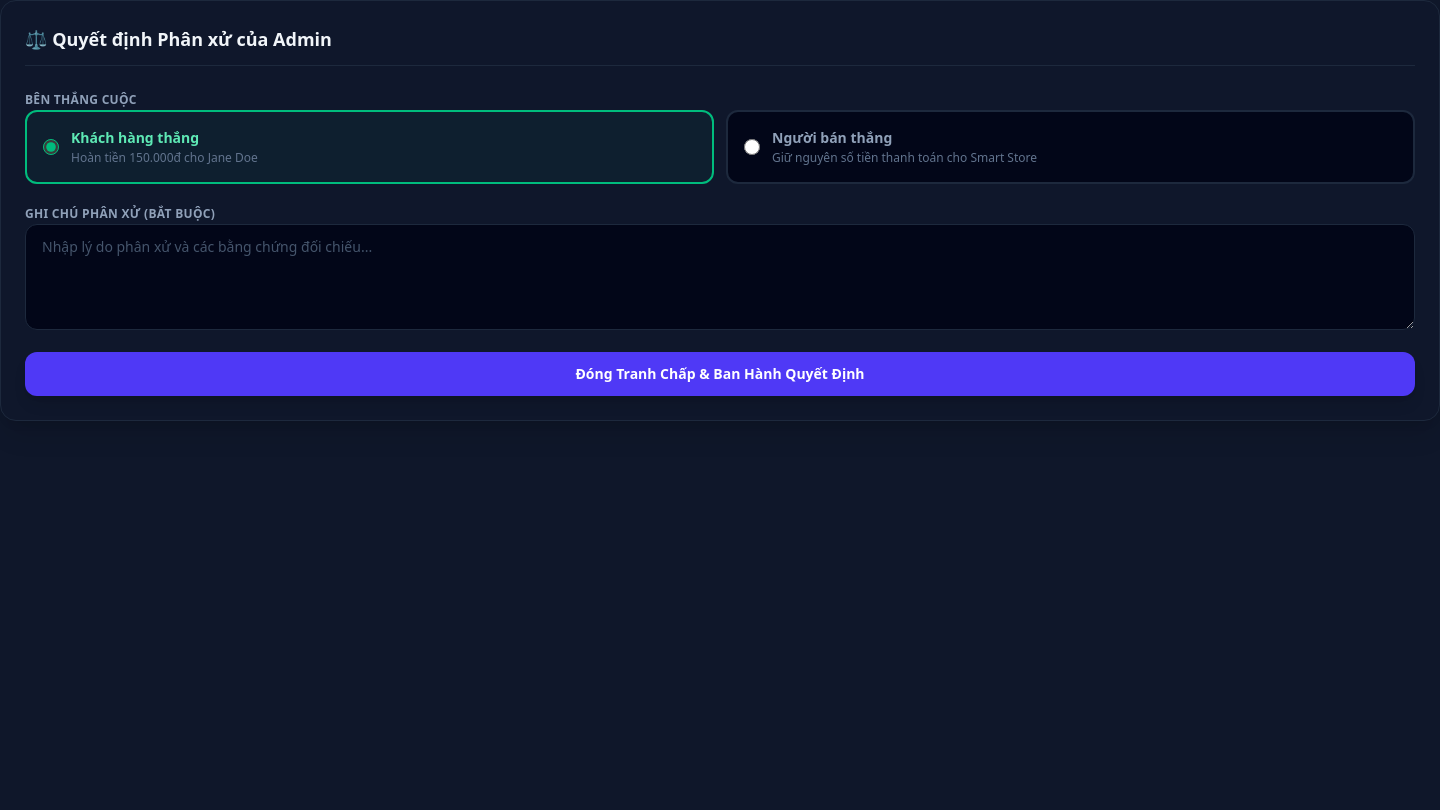
Test: ResolutionForm React Component › should close double confirmation dialog when clicking Cancel
Step 1. Type "Evidence matches customer claim." into the text box with placeholder "Nhập lý do phân xử và các bằng chứng đối chiếu..." → point(720, 277), box [25,224,1415,330]
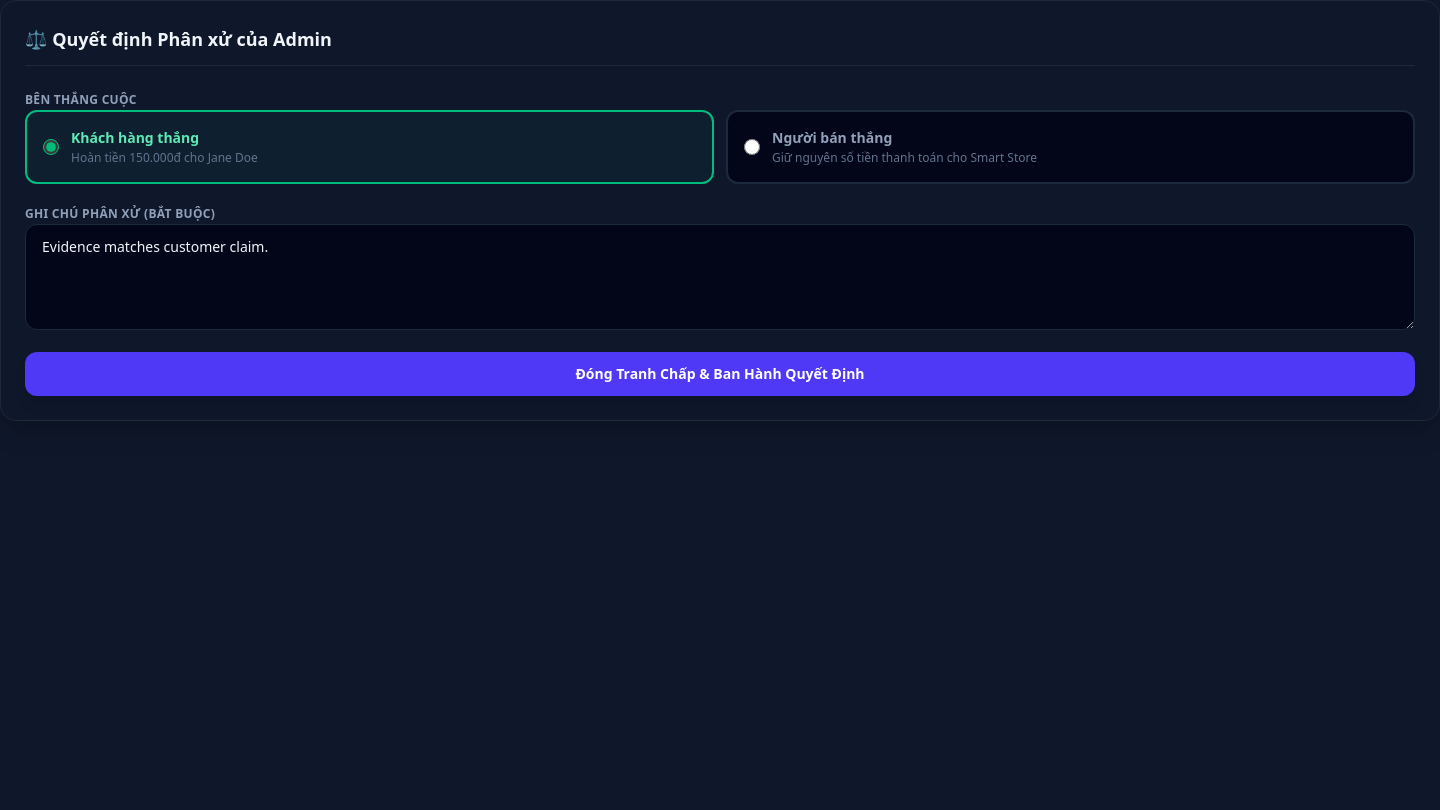
Step 2. Click the button "Đóng Tranh Chấp & Ban Hành Quyết Định" → point(720, 374), box [25,352,1415,396]
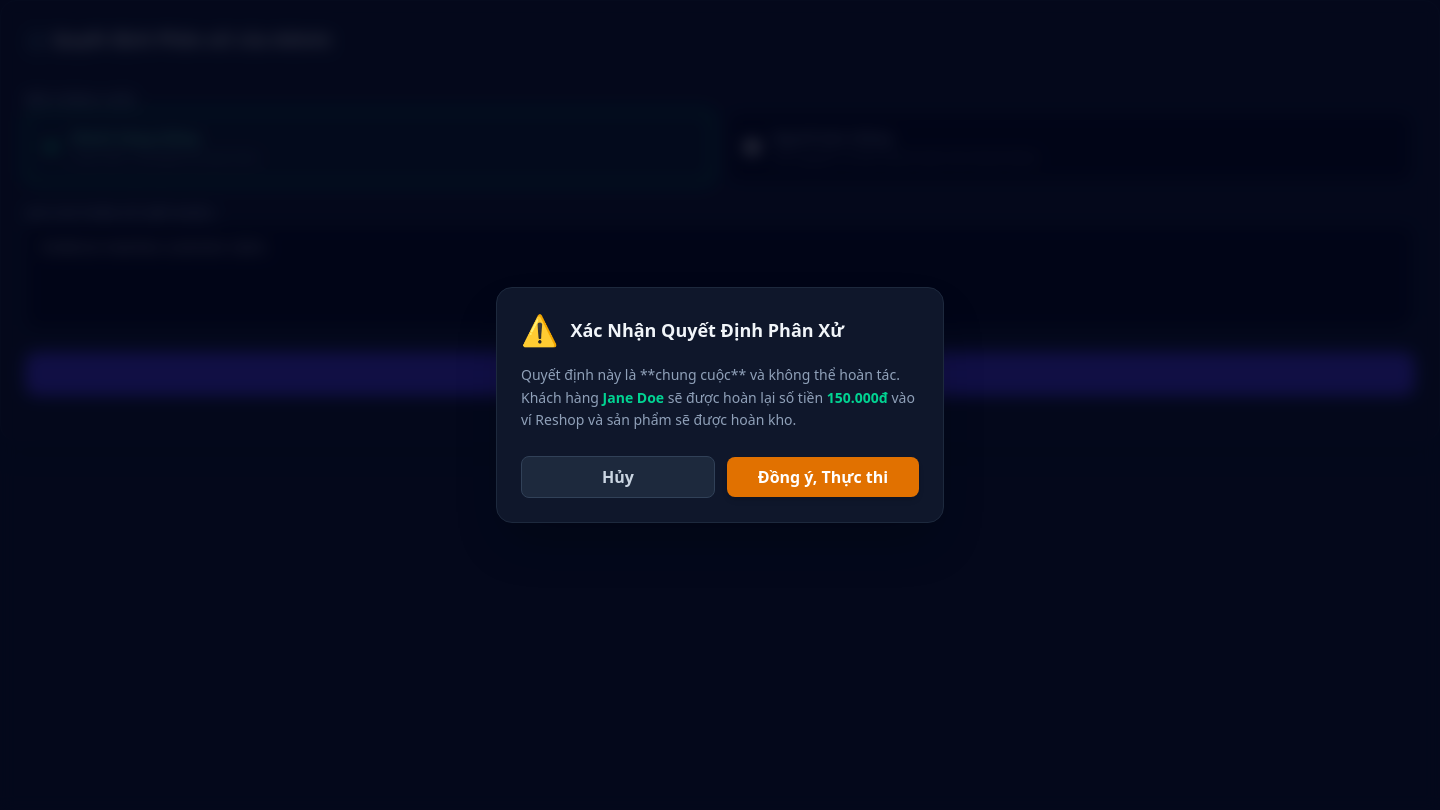
Step 3. Click the button "Hủy" → point(618, 477), box [521,456,715,498]
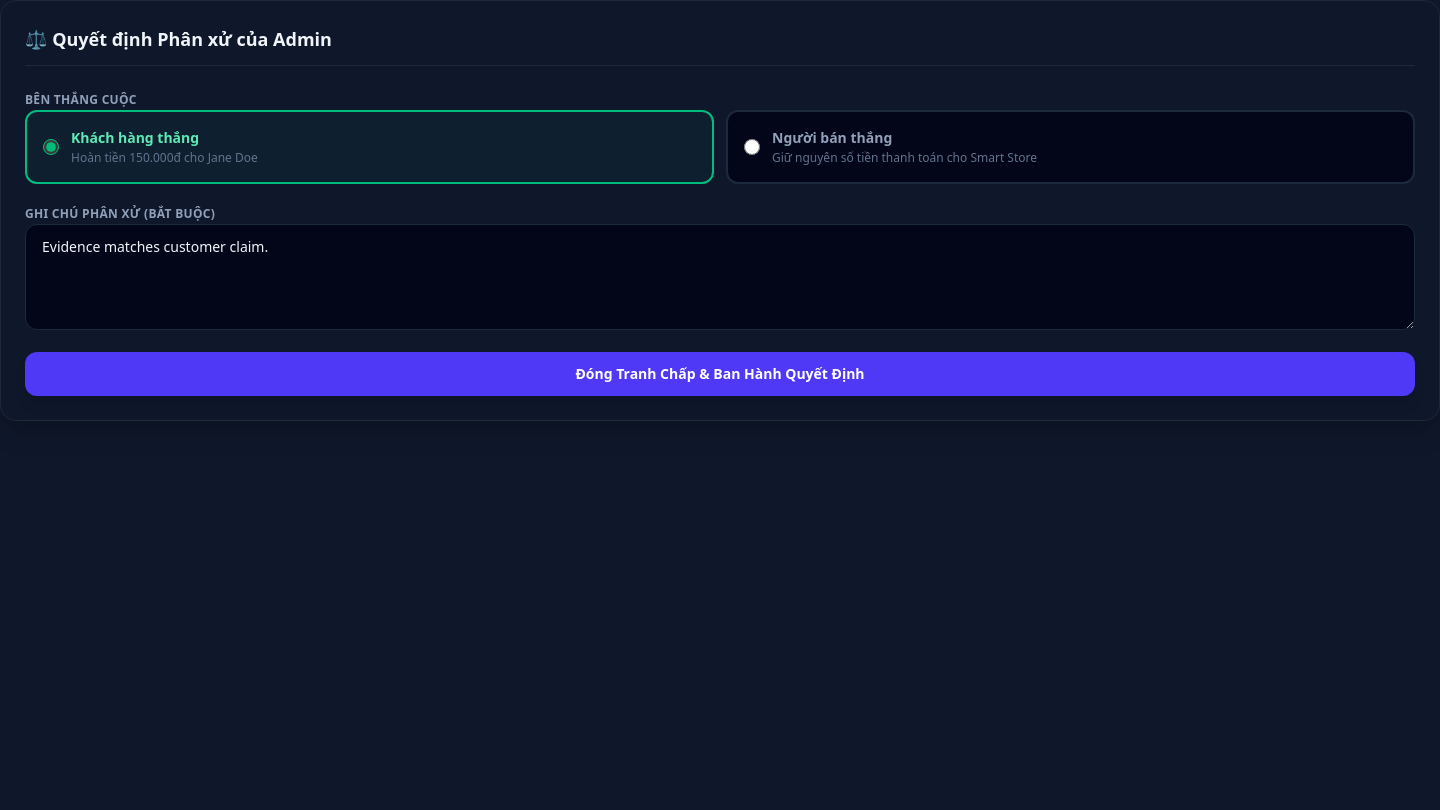
Expected: the heading "Xác Nhận Quyết Định Phân Xử" is gone
